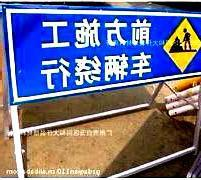sign: (3, 2, 201, 102)
